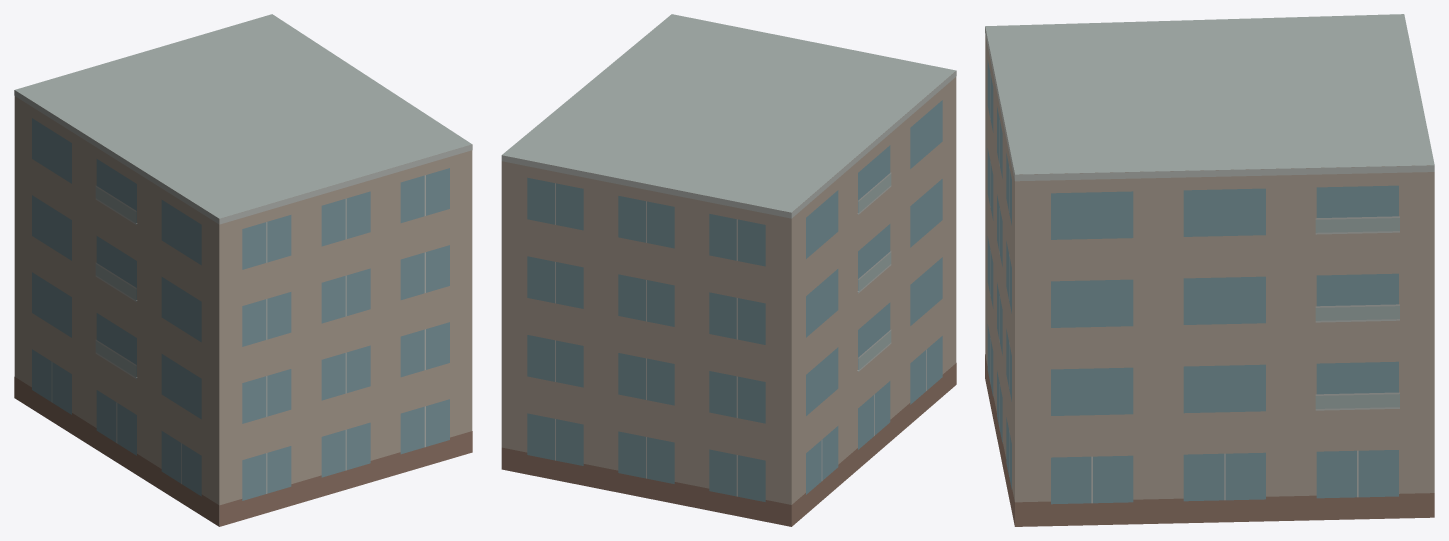
File: survey-upis-32739118.glb
3 renders of one model, left to right at view 1: azimuth 30°, elevation 25°; view 2: azimuth 150°, elevation 25°; view 3: azimuth 270°, elevation 25°, orthographic. The views are drawn at different scales.
Parts seen in each view (by area): view 1: survey-upis-32739118.tmp; view 2: survey-upis-32739118.tmp; view 3: survey-upis-32739118.tmp.
Part boxes in pixels (x1,y1,x2,y2): survey-upis-32739118.tmp: (14,14,472,526); survey-upis-32739118.tmp: (501,14,956,526); survey-upis-32739118.tmp: (985,14,1434,526).
Size of the model in its own units: 12.52 by 12.8 by 14.81.
